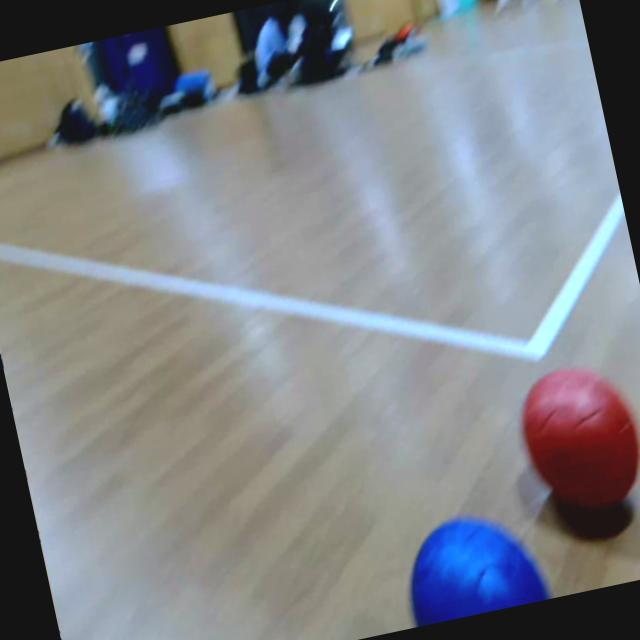blue_ball: (390, 496, 556, 628)
red_ball: (509, 353, 640, 522)
